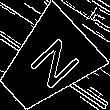N_SW: (15, 32, 79, 95)
